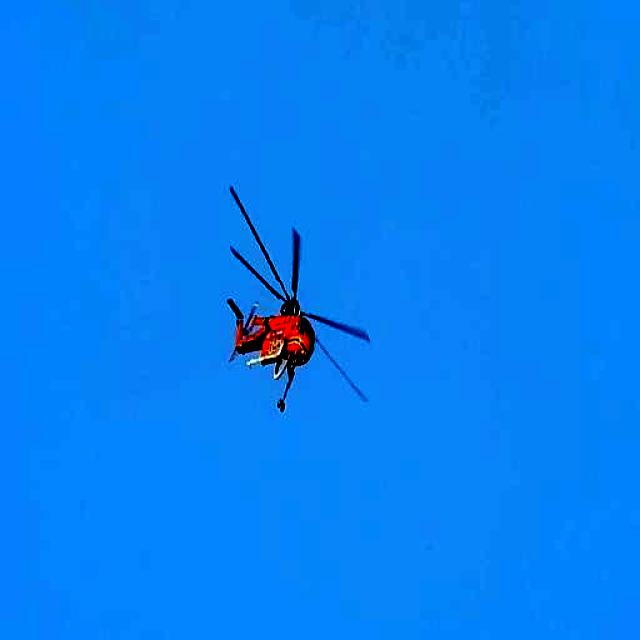drone: (200, 150, 349, 430)
